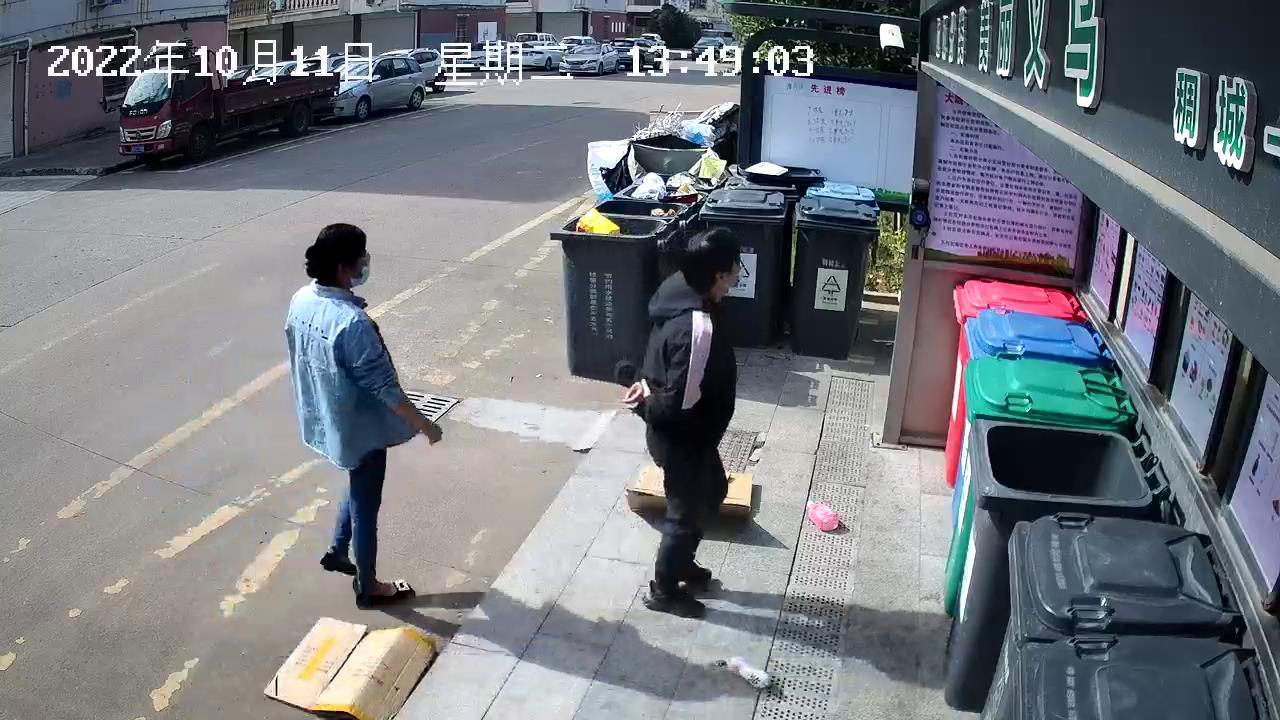person: (617, 220, 752, 620)
suliaozhipin: (719, 651, 775, 691), (799, 493, 844, 537)
worker: (279, 218, 452, 614)
zhizhipin: (258, 612, 445, 720), (619, 456, 761, 529)
